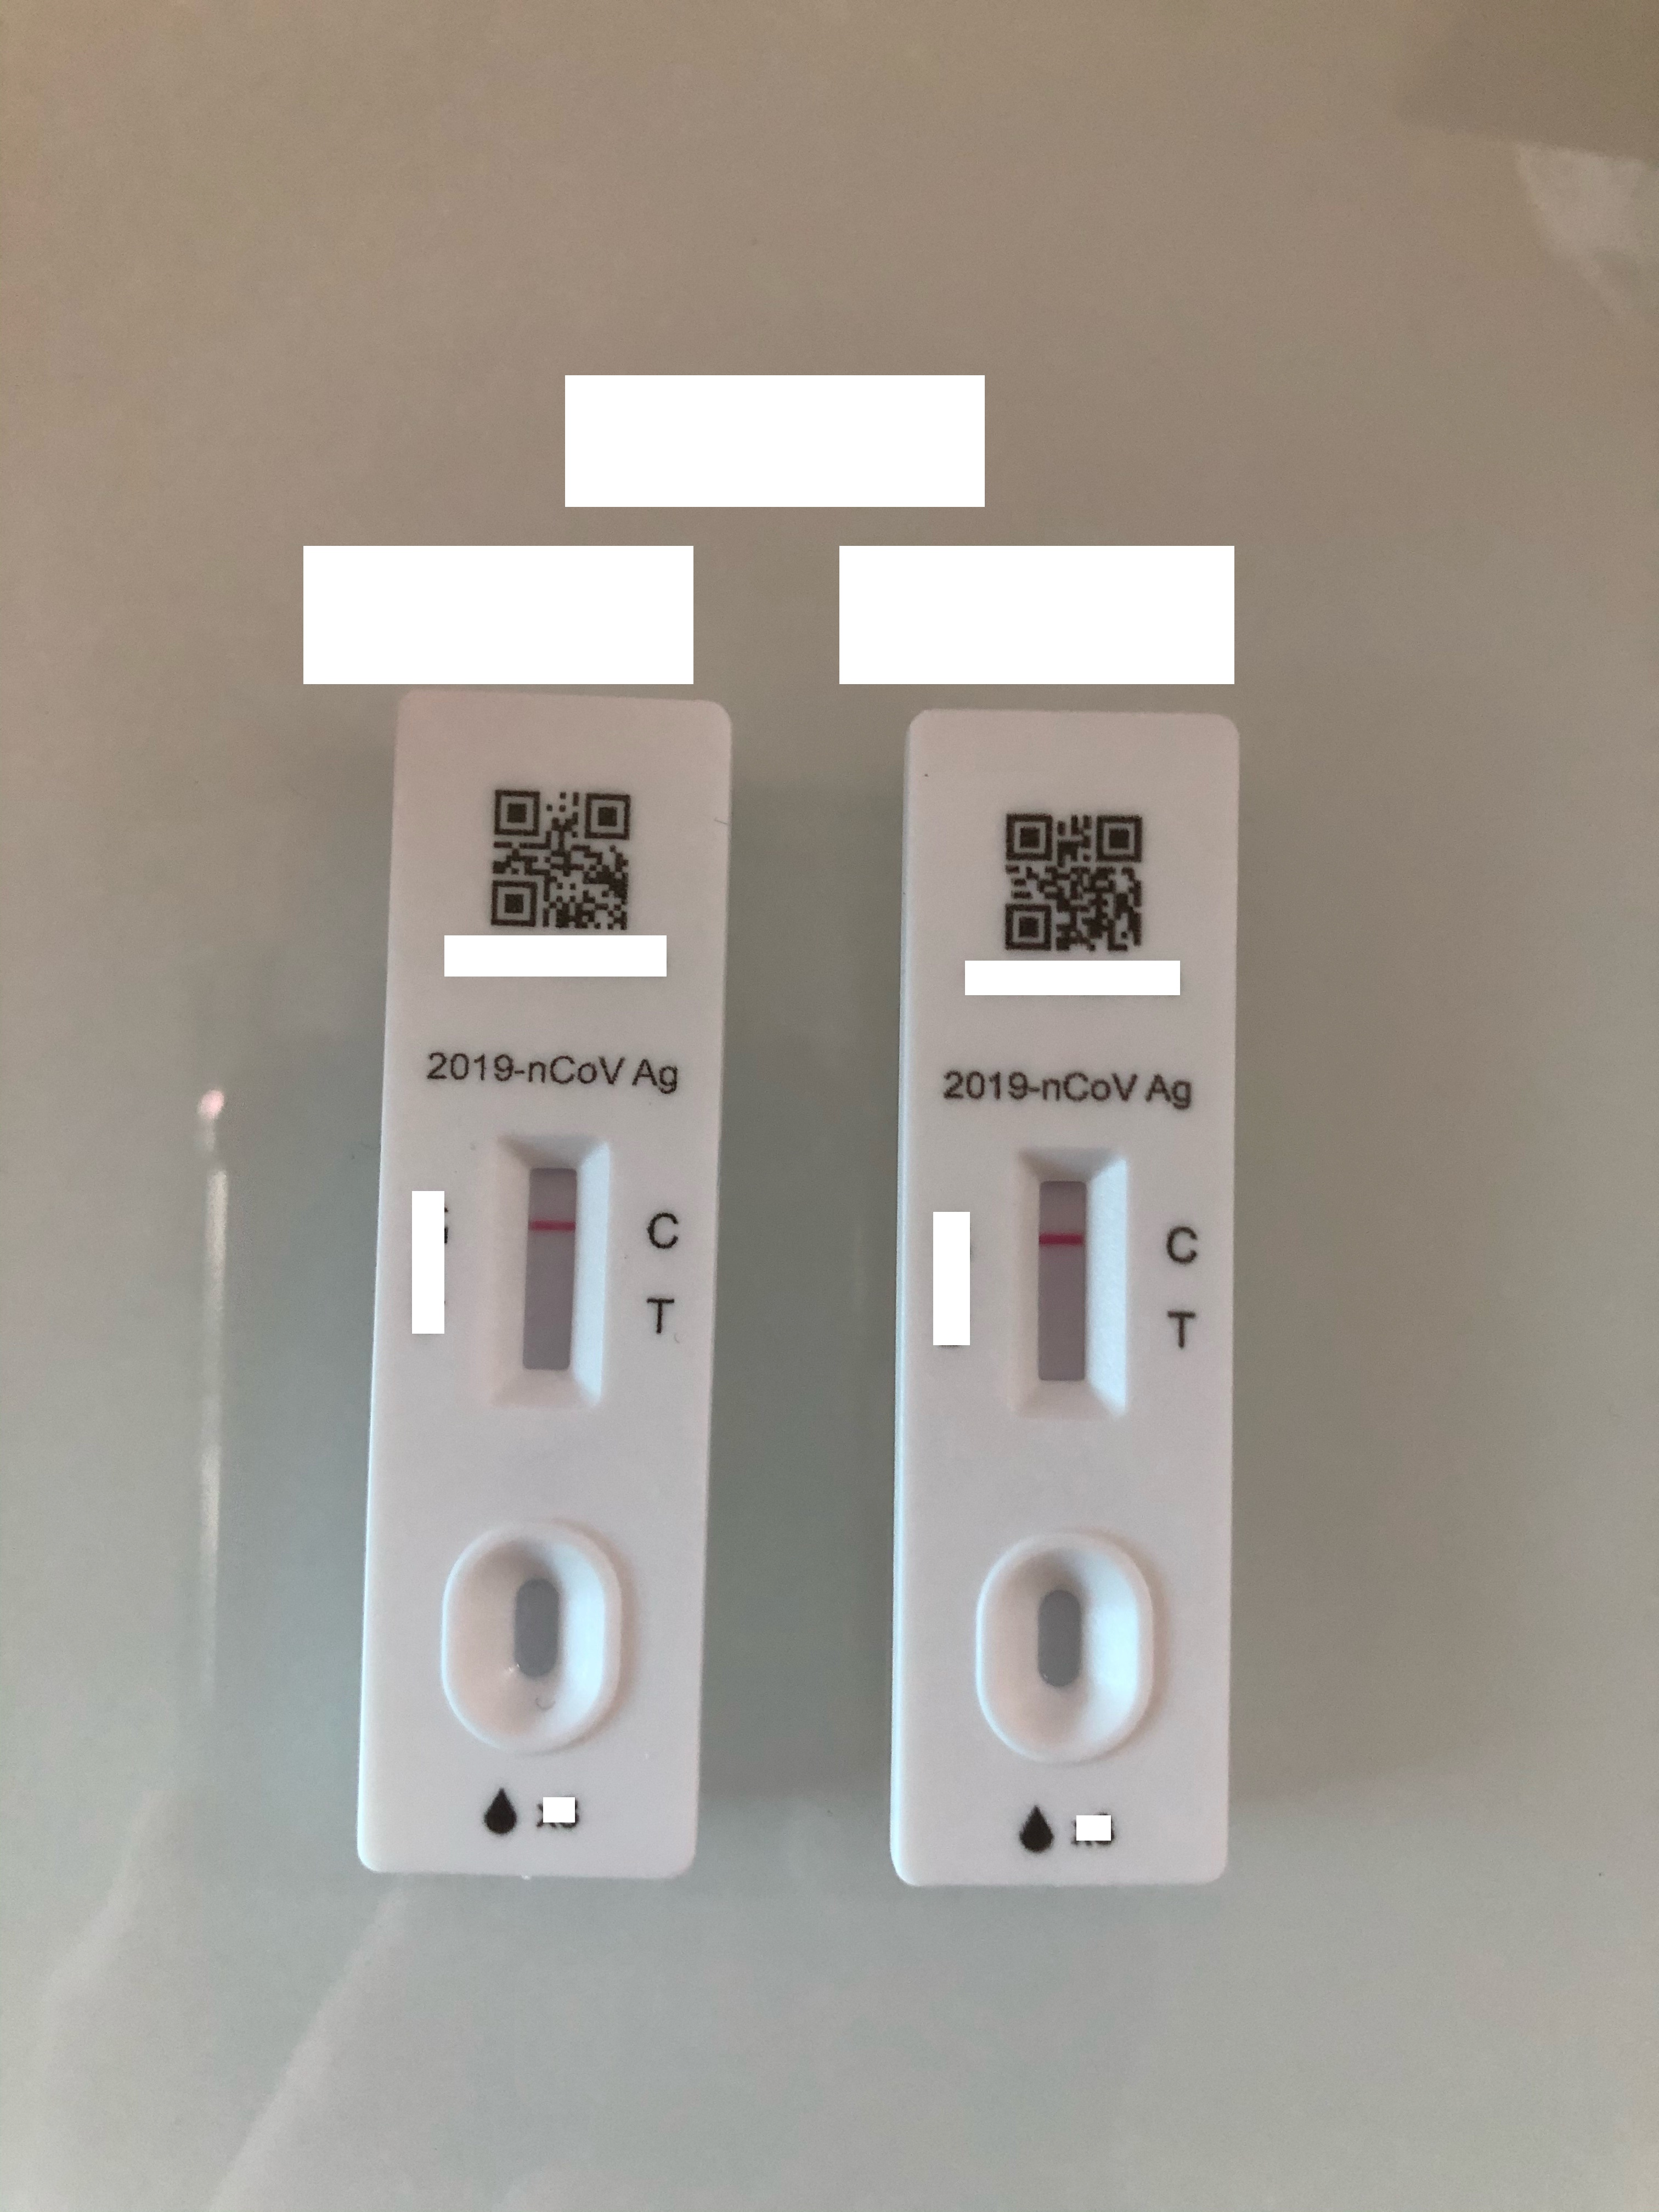negative: (1014, 1143, 1129, 1416), (497, 1129, 608, 1406)
positive: (500, 1136, 608, 1392)
